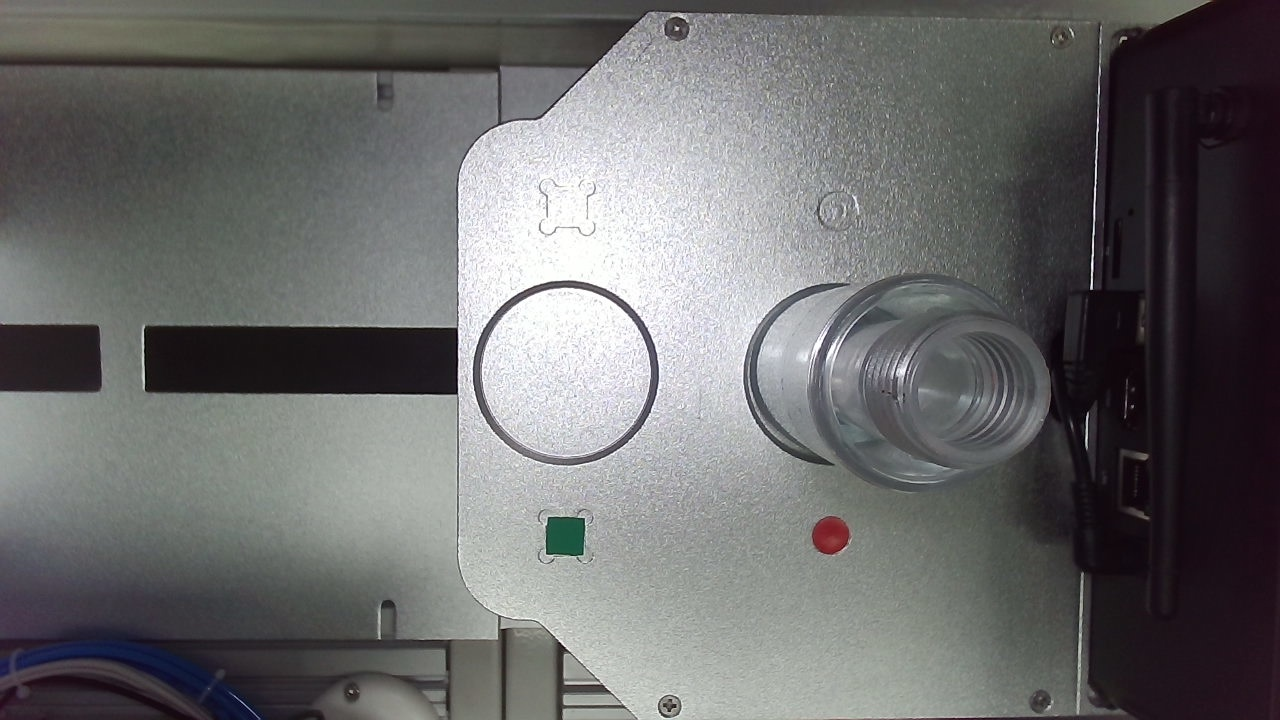XLabel: (648, 364, 682, 397)
YLabel: (429, 368, 461, 402)
none: (366, 440, 529, 603)
transparenexcept: (587, 436, 808, 678)
